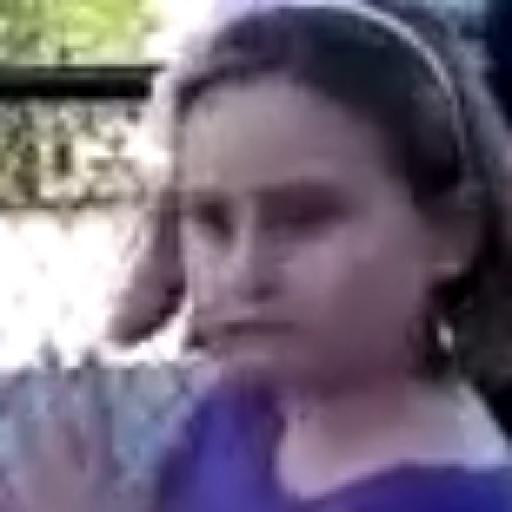Autism: (146, 24, 483, 512)
